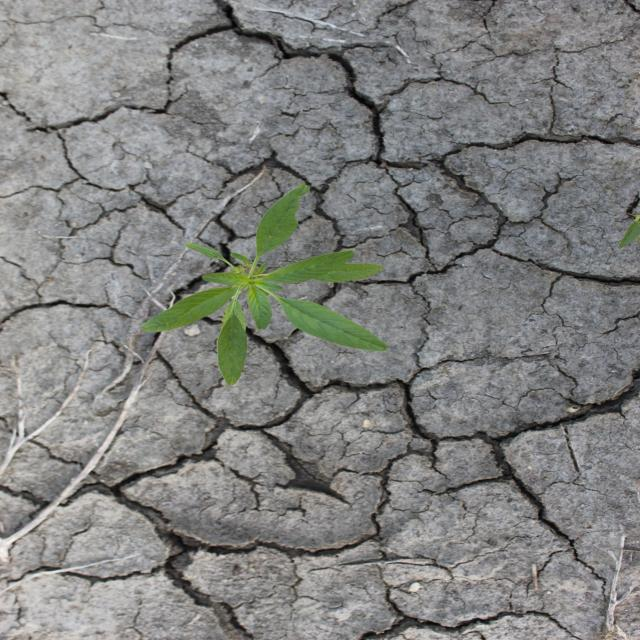Waterhemp: (134, 183, 391, 386)
